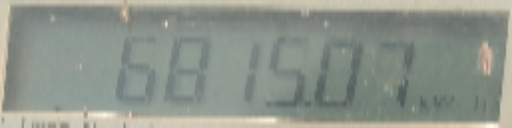0: (314, 32, 360, 112)
1: (225, 26, 271, 106)
5: (265, 27, 311, 107)
6: (115, 26, 158, 109)
7: (369, 30, 415, 110)
8: (165, 26, 211, 106)
d: (303, 96, 312, 110)
